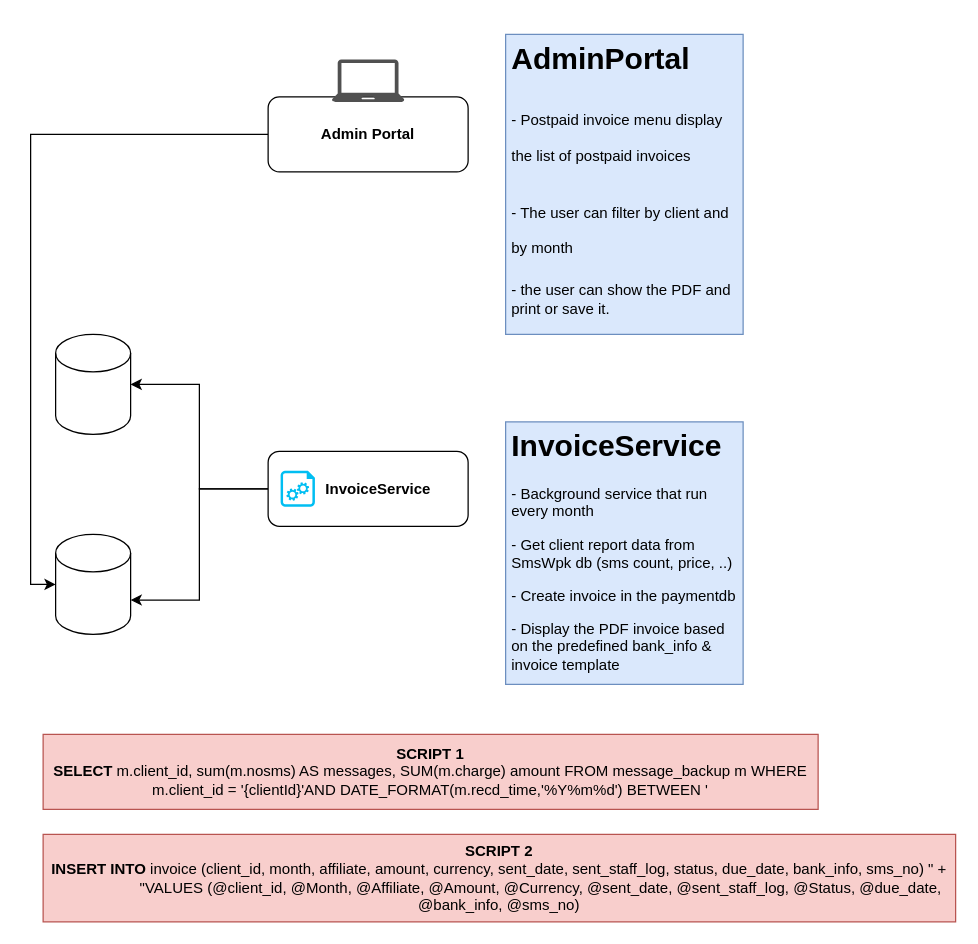
The diagram is 978 pixels wide and 944 high, and some of its shapes have lost their labels. Each missing label, with the box of its shape:
Payment db: (54, 533, 131, 634)
SmsWpk db: (54, 333, 131, 434)
